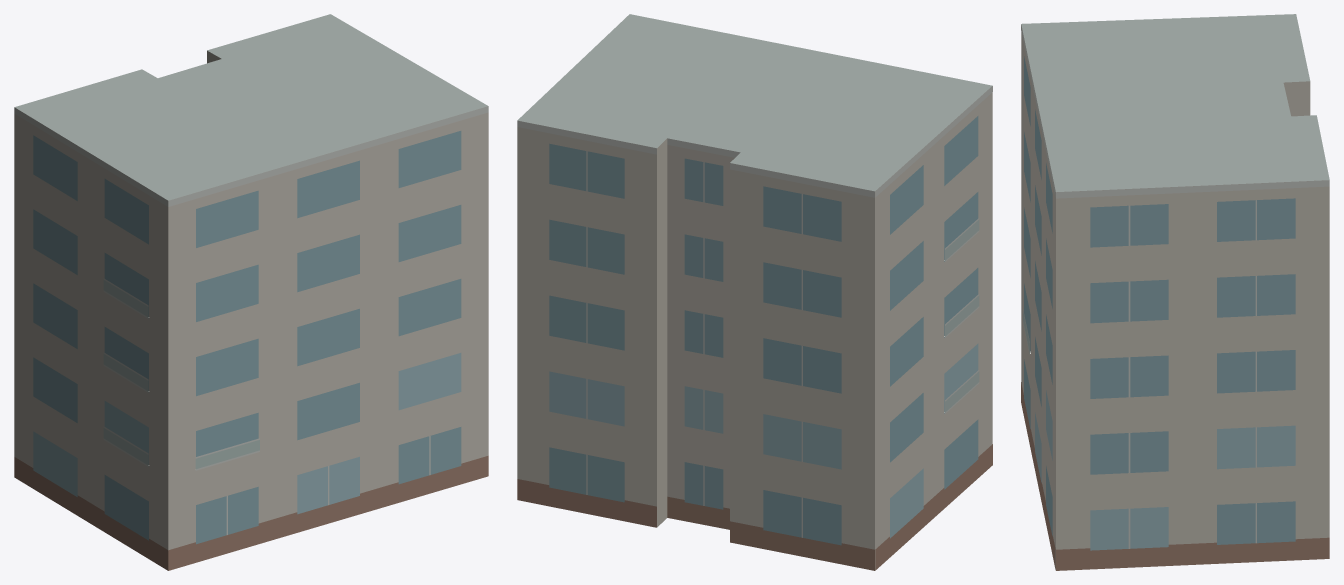
File: survey-upis-32925802.glb
The picture shows the model from 3 angles, left to right: view 1: azimuth 30°, elevation 25°; view 2: azimuth 150°, elevation 25°; view 3: azimuth 270°, elevation 25°; orthographic projection. The views are drawn at different scales.
Parts seen in each view (by area): view 1: survey-upis-32925802.tmp; view 2: survey-upis-32925802.tmp; view 3: survey-upis-32925802.tmp.
Boxes of the visible parts, x1,y1,x2,y2 form: survey-upis-32925802.tmp: [14, 14, 488, 570]; survey-upis-32925802.tmp: [517, 14, 992, 570]; survey-upis-32925802.tmp: [1021, 14, 1329, 570].
Size of the model in its own units: 14.44 by 14.3 by 10.57.
